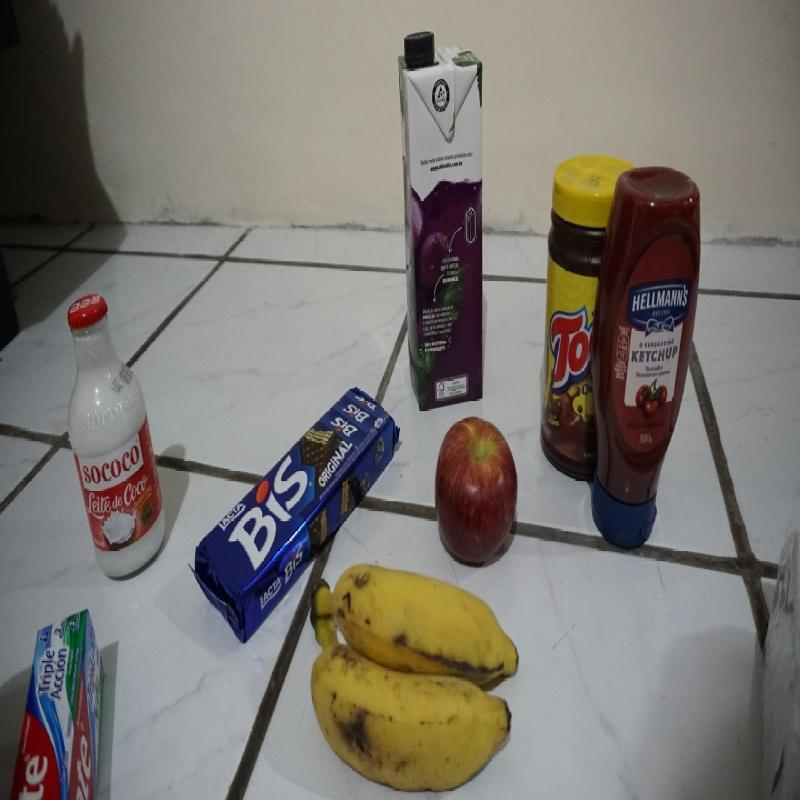Apple: (432, 415, 520, 572)
Banana: (310, 562, 521, 789)
Chocolate Powder: (538, 154, 603, 476)
Coconut Milk: (61, 295, 166, 585)
Ketchup: (590, 163, 702, 558)
Toothpaste: (9, 608, 109, 800)
